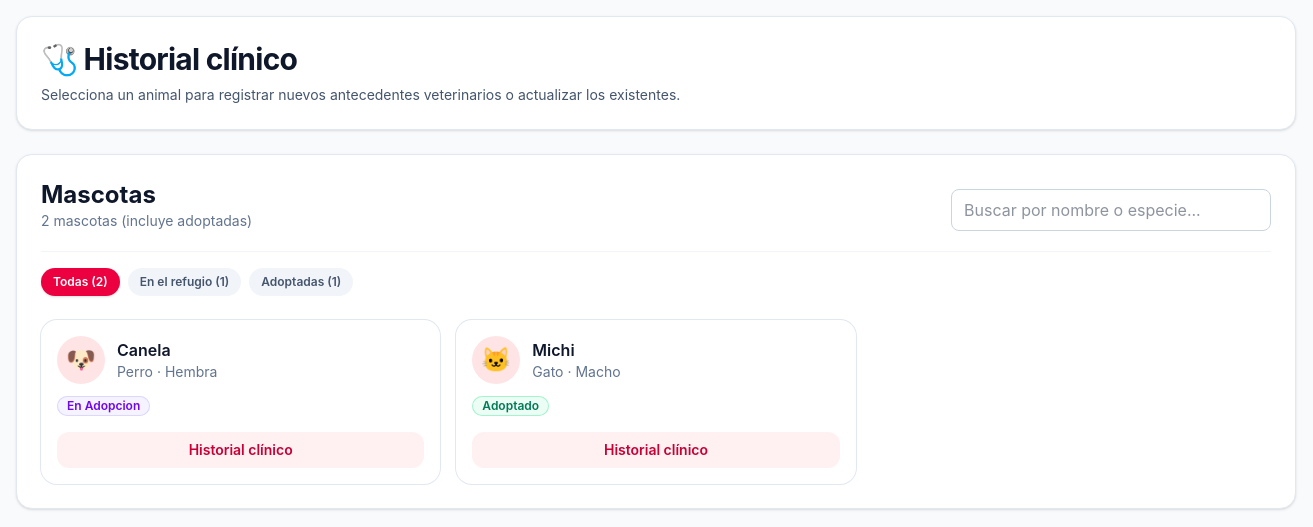
Scenario: Filtro de mascotas adoptadas (vista del veterinario) › el veterinario ve las mascotas adoptadas y puede filtrarlas
The width and height of the screenshot is (1313, 527).
Check: the text "Canela" is shown, box [117,340,171,360]
Check: the text "Michi" is shown, box [532,340,575,360]
What coordinates should you click on to do the following:
click the button "Adoptadas (1)"
I would click on:
 (301, 282)
Its box is [249,268,353,296].
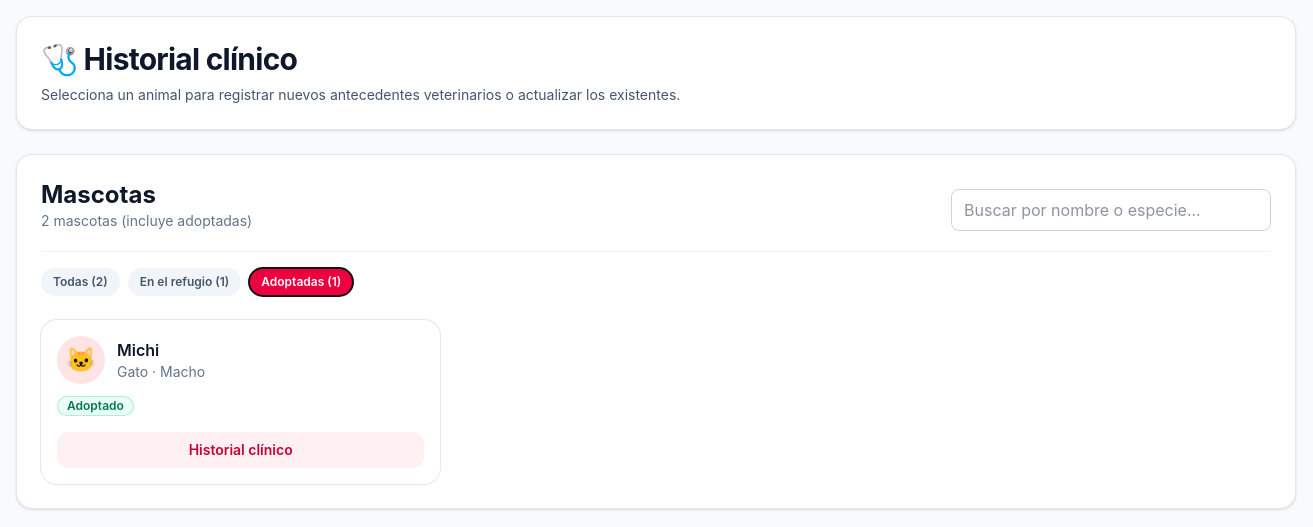
Check: the text "Michi" is shown, box [117,340,159,360]
Check: the text "Canela" is gone
What coordinates should you click on to do the following:
click the button "En el refugio (1)"
I would click on:
 (184, 282)
Its box is [128,268,241,296].
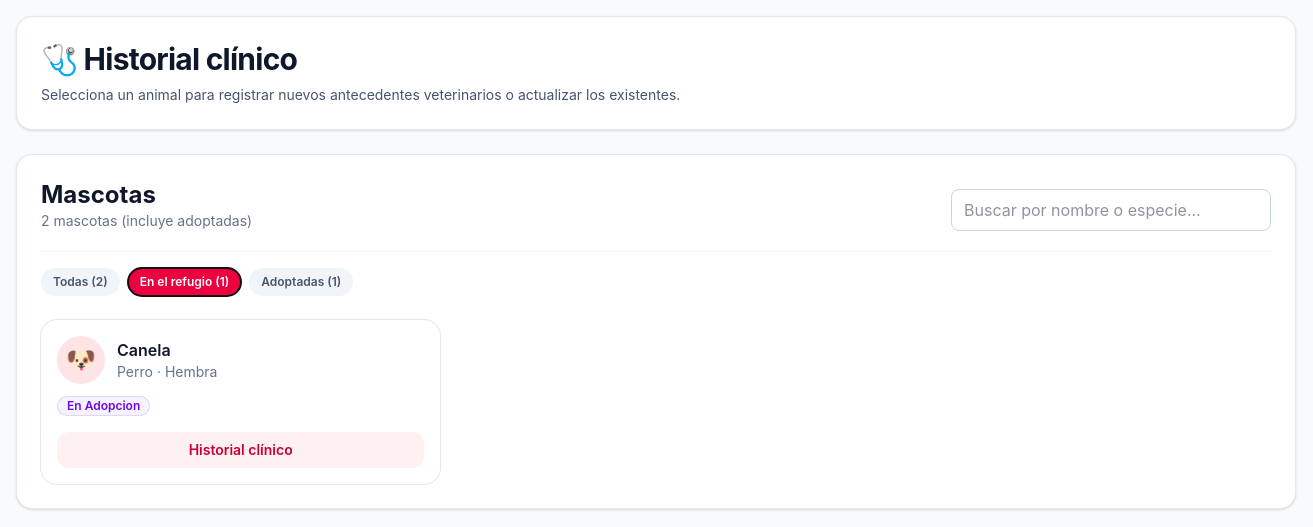
Check: the text "Canela" is shown, box [117,340,171,360]
Check: the text "Michi" is gone
What coordinates should you click on to do the following:
click the button "Todas (2)"
I would click on:
 (80, 282)
Its box is [41,268,120,296].
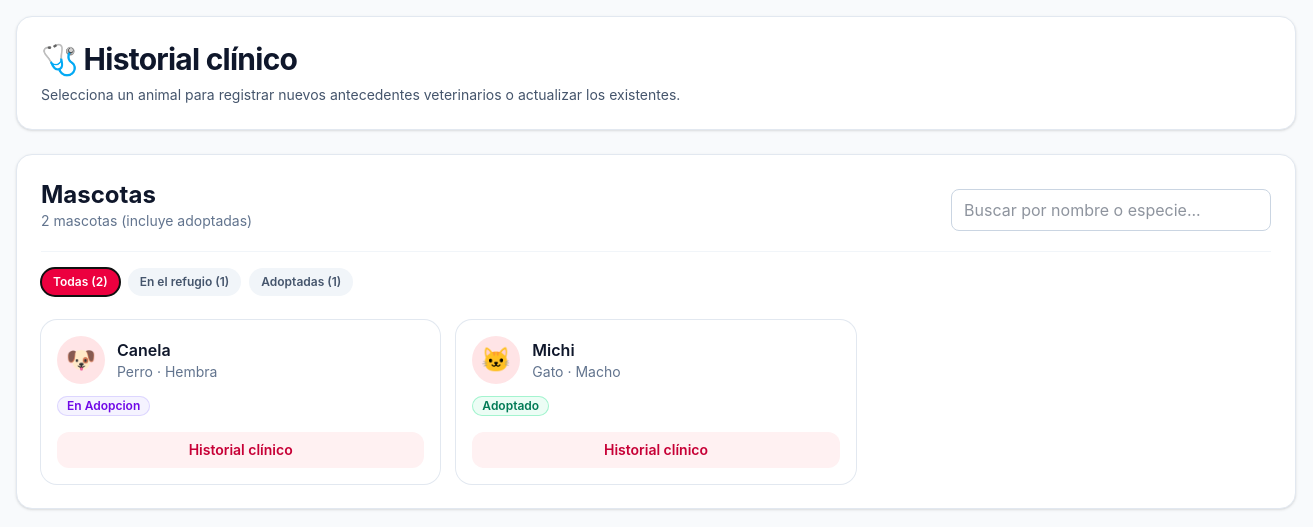
Check: the text "Canela" is shown, box [117,340,171,360]
Check: the text "Michi" is shown, box [532,340,575,360]
